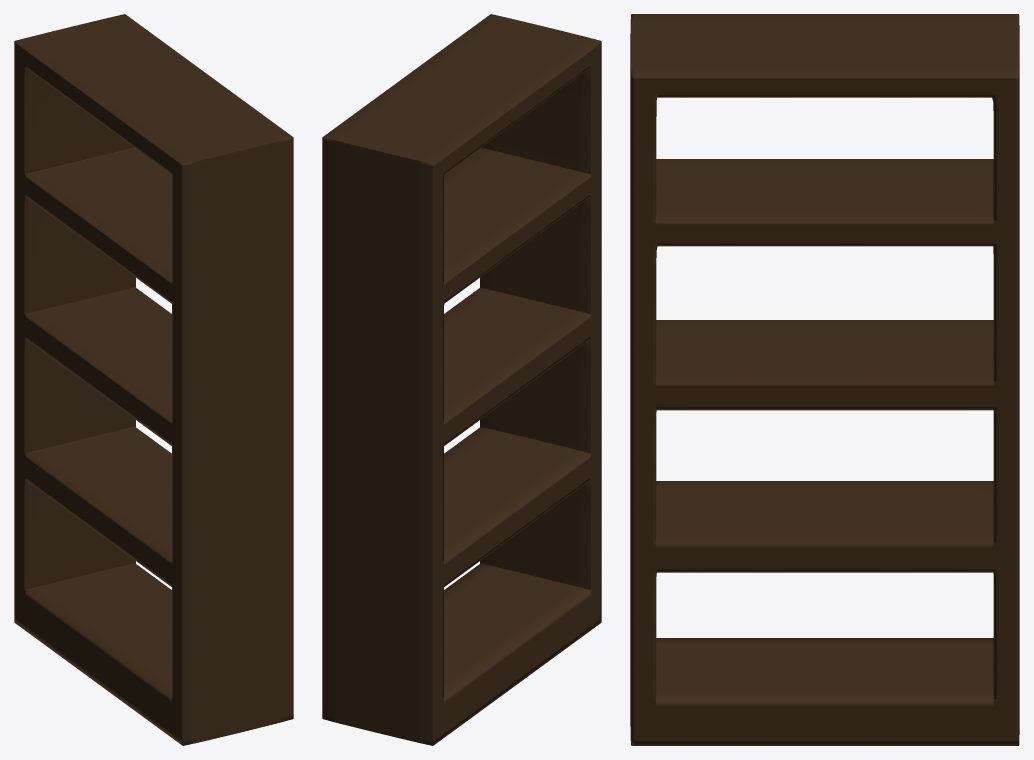
The model's file is Rak2.fbx.
3 renders of one model, left to right at view 1: azimuth 30°, elevation 25°; view 2: azimuth 150°, elevation 25°; view 3: azimuth 270°, elevation 25°, orthographic. The views are drawn at different scales.
Parts seen in each view (by area): view 1: pCube59; view 2: pCube59; view 3: pCube59.
Part boxes in pixels (x1=…): pCube59: x1=14, y1=14, x2=293, y2=745; pCube59: x1=322, y1=14, x2=601, y2=745; pCube59: x1=630, y1=14, x2=1019, y2=745.
Bounding box in the file's own units: 5.75 × 28.93 × 15.21.
